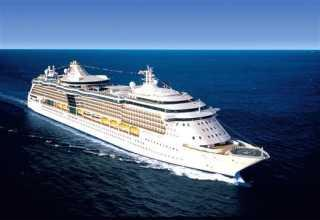youlun: (25, 53, 271, 178)
